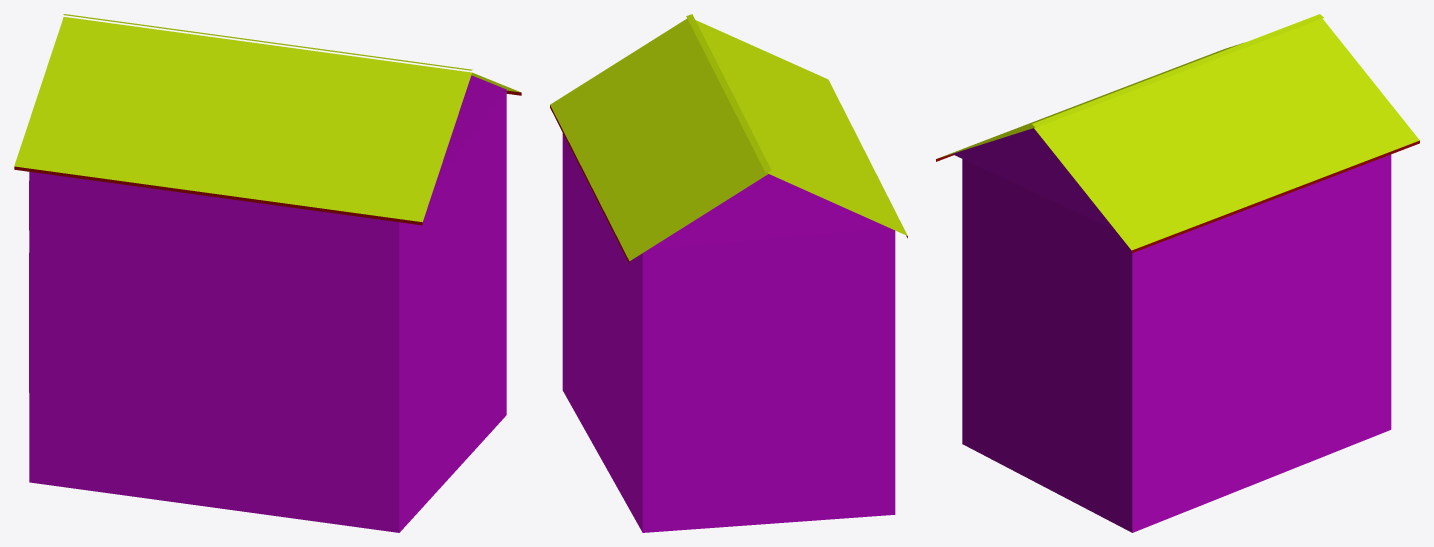
File: bgj_3.glb
The picture shows the model from 3 angles, left to right: view 1: azimuth 30°, elevation 25°; view 2: azimuth 150°, elevation 25°; view 3: azimuth 270°, elevation 25°; orthographic projection. The views are drawn at different scales.
Parts seen in each view (by area): view 1: bgj_3; view 2: bgj_3; view 3: bgj_3.
Part boxes in pixels (x1,y1,x2,y2): bgj_3: (14,14,521,532); bgj_3: (550,14,907,532); bgj_3: (936,14,1419,532).
Size of the model in its own units: 17.63 by 15.04 by 17.89.
